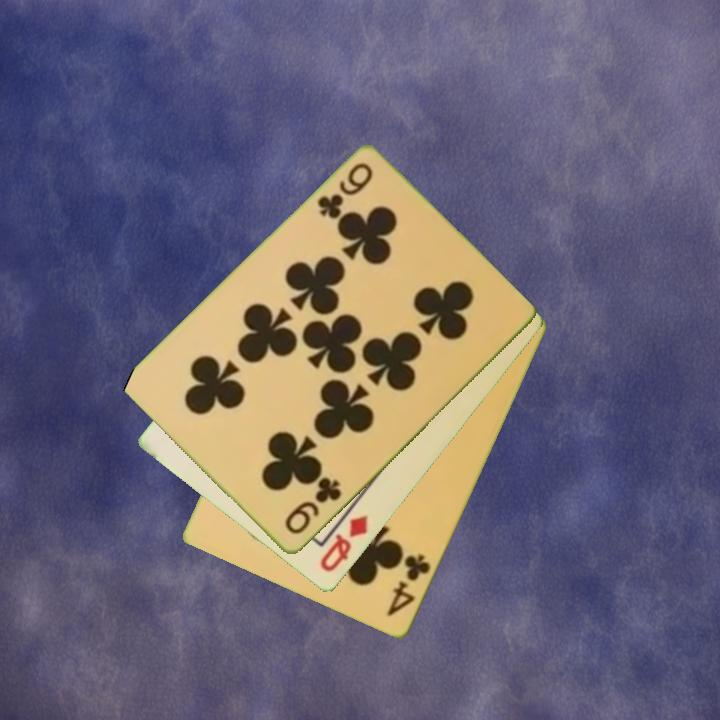4c: (383, 551, 434, 621)
9c: (281, 474, 345, 538), (313, 159, 376, 223)
Qd: (316, 511, 372, 576)
